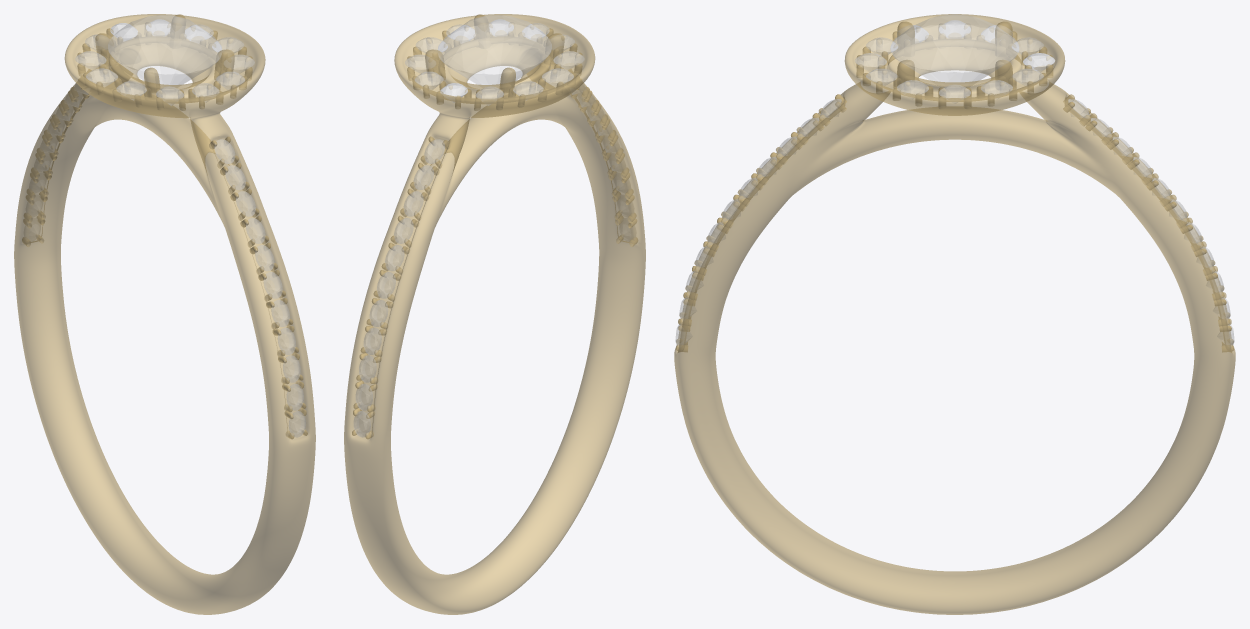
3 views of the same model, side by side, from view 1: azimuth 30°, elevation 25°; view 2: azimuth 150°, elevation 25°; view 3: azimuth 270°, elevation 25° (orthographic). The views are drawn at different scales.
Visible parts, largest first — view 1: Ring, Diamond; view 2: Ring, Diamond; view 3: Ring, Diamond.
Part boxes in pixels (x1=…): Ring: x1=14, y1=14, x2=315, y2=614; Diamond: x1=24, y1=15, x2=305, y2=437; Ring: x1=344, y1=14, x2=645, y2=614; Diamond: x1=353, y1=15, x2=635, y2=437; Ring: x1=674, y1=14, x2=1235, y2=614; Diamond: x1=675, y1=14, x2=1234, y2=345.
Bounding box in the file's own units: 0.8475 × 2.64 × 2.3.
